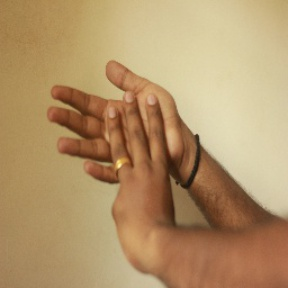M: (44, 58, 191, 232)
